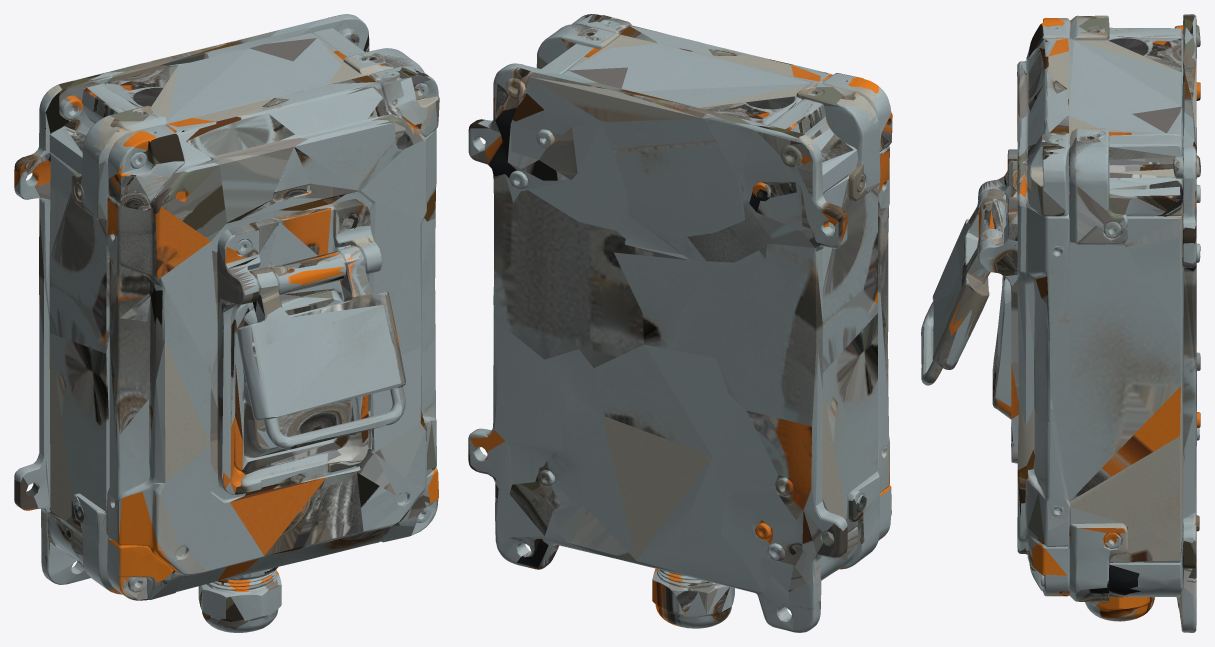
File: wall_button_body.gltf
3 views of the same model, side by side, from view 1: azimuth 30°, elevation 25°; view 2: azimuth 150°, elevation 25°; view 3: azimuth 270°, elevation 25° (orthographic). The views are drawn at different scales.
Visible parts, largest first — view 1: Body, Key; view 2: Body; view 3: Body, Key.
Part boxes in pixels (x1,y1,x2,y2): Body: (14,14,439,632); Key: (238,346,352,464); Body: (468,14,892,632); Body: (921,14,1200,632); Key: (992,275,1011,419).
Size of the model in its own units: 0.36 by 0.5 by 0.24.
1 material, 1 textured.
